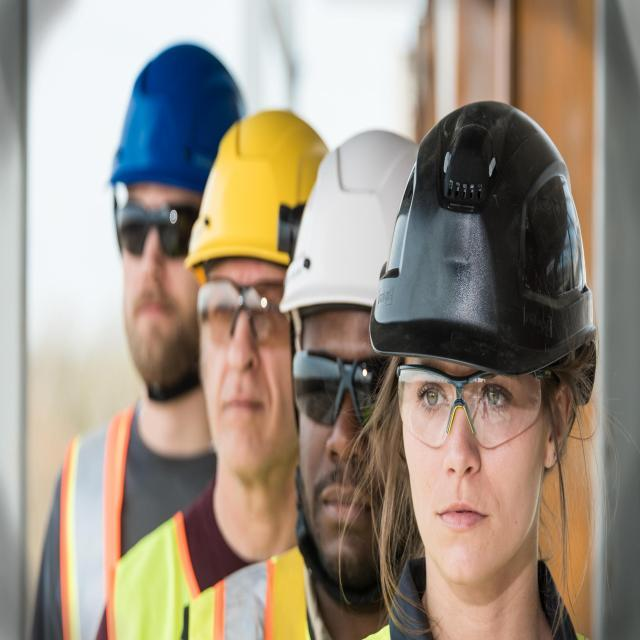reflective_jacket: (57, 410, 161, 639), (182, 554, 376, 639)
safety_helmet: (371, 105, 596, 384), (280, 122, 433, 327), (185, 102, 333, 288), (104, 33, 256, 208)
